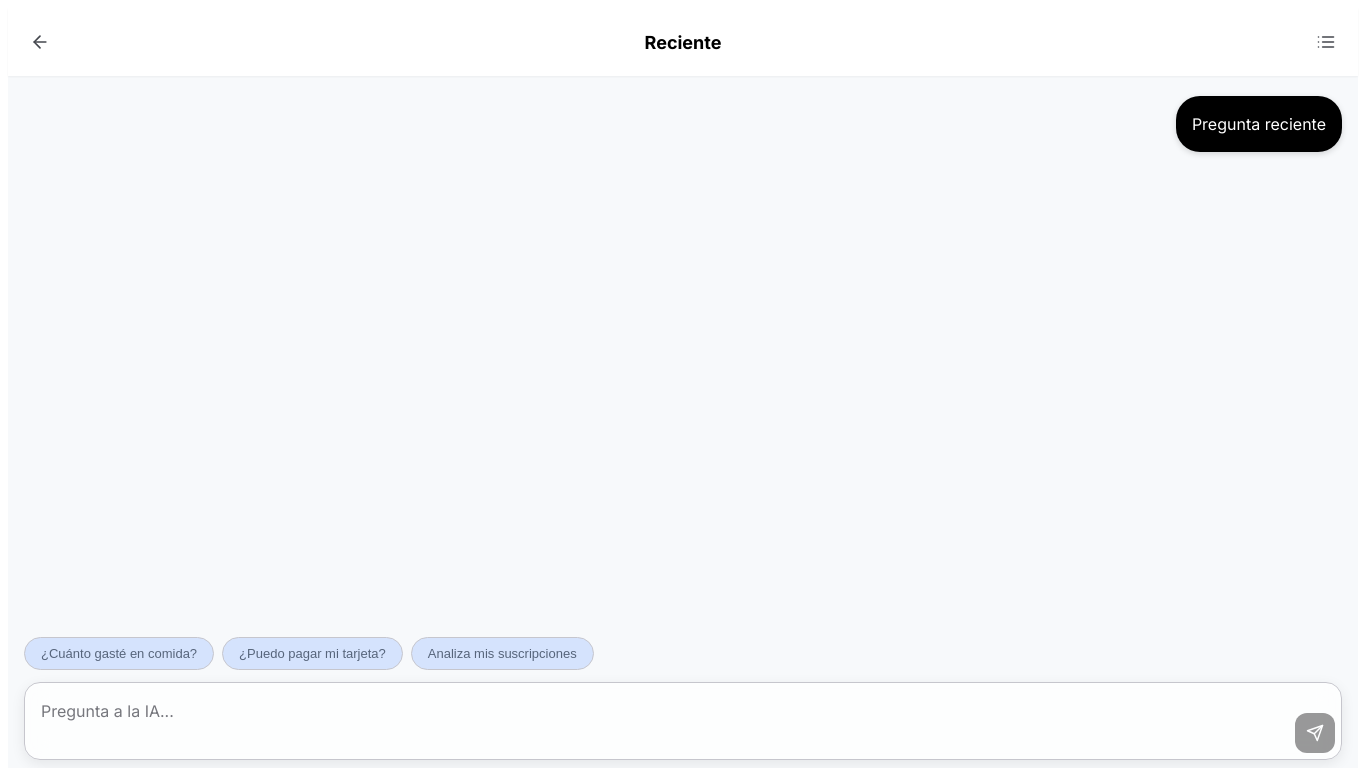
Test: AsesorChatView › opens the conversaciones list and switches conversations
Expected: the text "Pregunta reciente" is shown, [1176,96,1342,152]
Click the button with test id "asesor-history-button". click: (1326, 42)
box: [1306,22,1346,62]
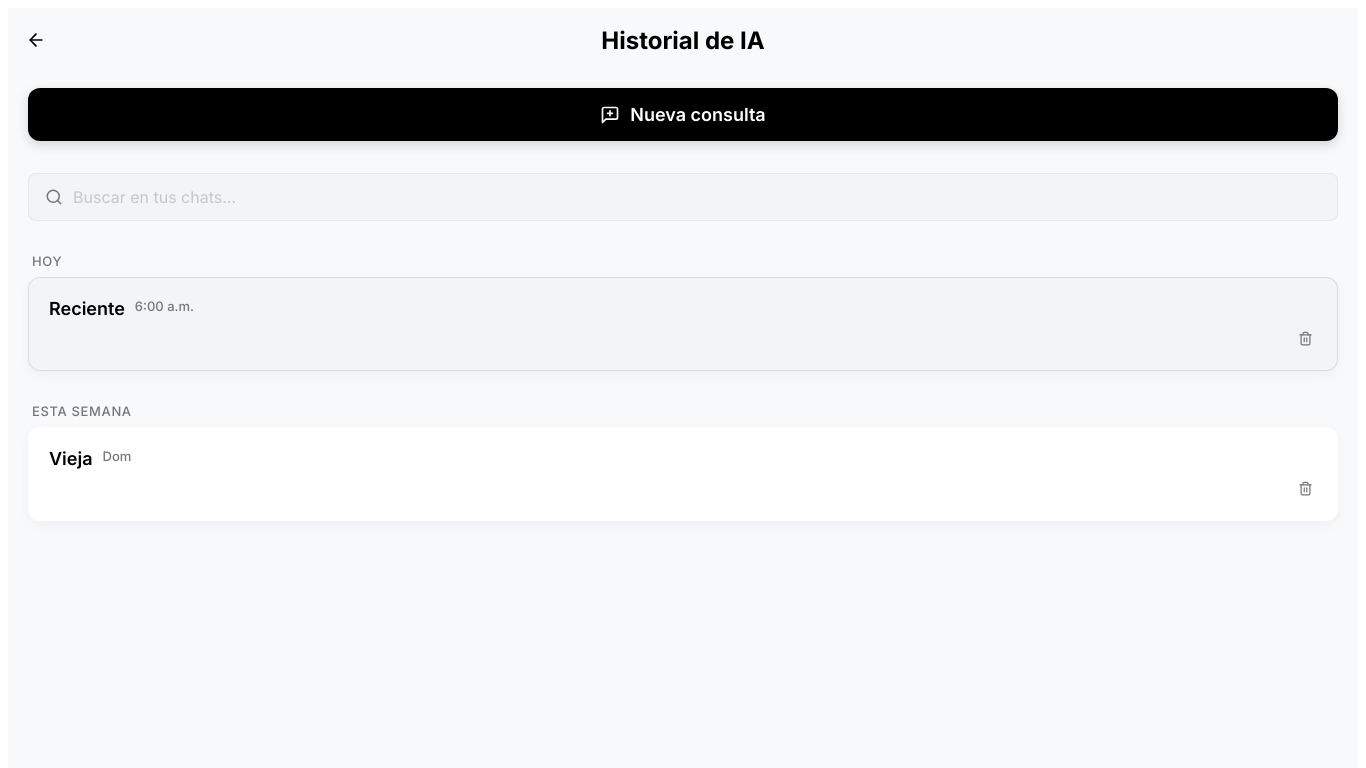
Expected: the button with test id "conversaciones-item-conv-2" is shown
Click the button with test id "conversaciones-item-conv-2". click: (71, 458)
box: [28,427,1338,521]
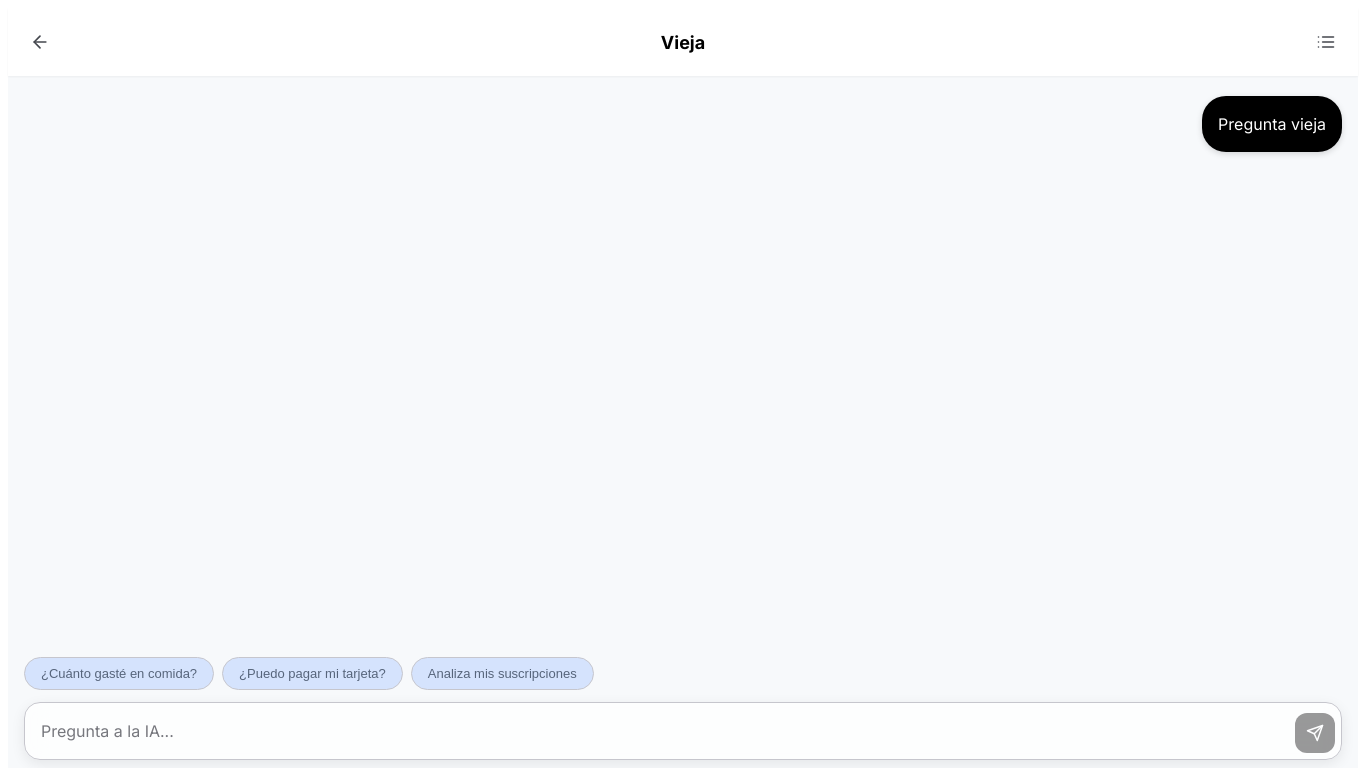
Expected: the text "Pregunta vieja" is shown, [1202,96,1342,152]
